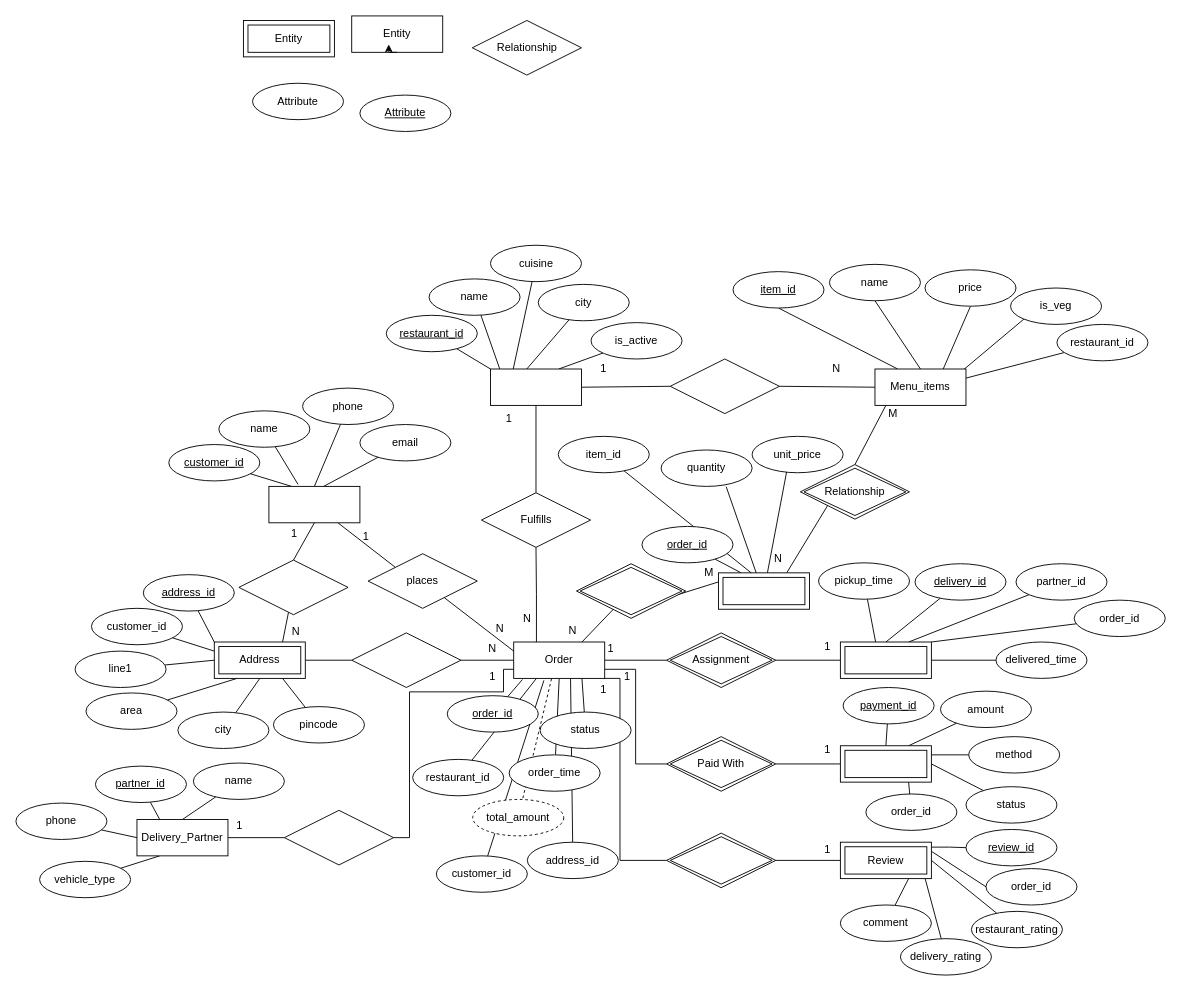
Image size: 1181x991. Some labels were removed from this diagram. Each missing label, with the box of its shape:
Assigned to: (283, 809, 394, 865)
Contains: (576, 563, 686, 618)
Customer: (268, 485, 360, 523)
Deliveries: (839, 641, 931, 678)
Details Of: (666, 832, 776, 888)
Offers: (669, 358, 779, 414)
Order_items: (718, 572, 809, 609)
Owns: (238, 559, 348, 615)
Payment: (839, 745, 931, 782)
Restaurants: (490, 368, 581, 405)
Shipped To: (351, 632, 461, 688)
